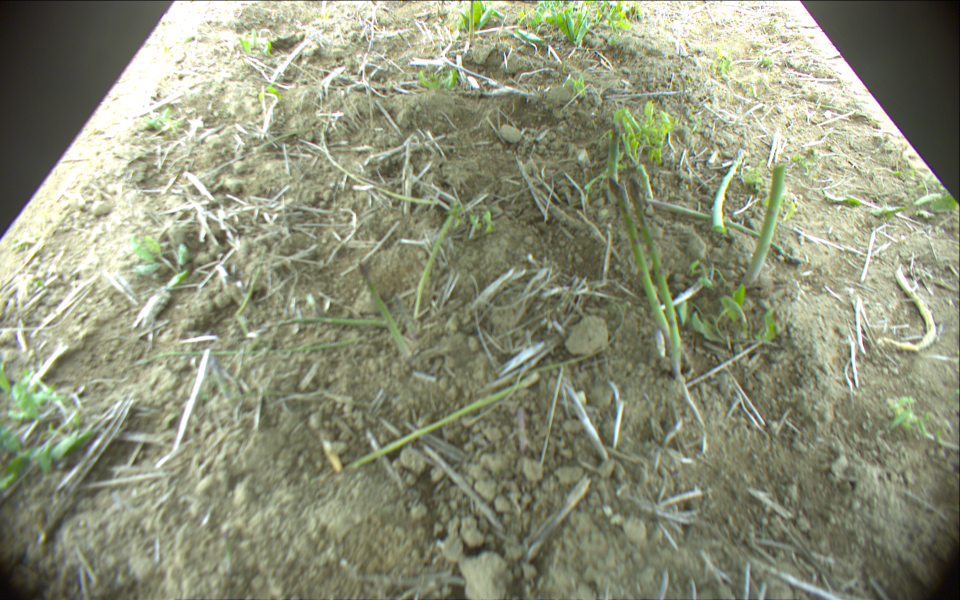aspa: (339, 375, 537, 475), (631, 179, 684, 374), (617, 182, 675, 348), (318, 130, 446, 203), (646, 198, 781, 254), (125, 336, 363, 366), (741, 164, 788, 286), (357, 263, 413, 359), (410, 209, 457, 317), (879, 268, 938, 352), (713, 147, 748, 239), (267, 316, 388, 331), (602, 122, 623, 206), (638, 164, 654, 200), (466, 1, 475, 44)
